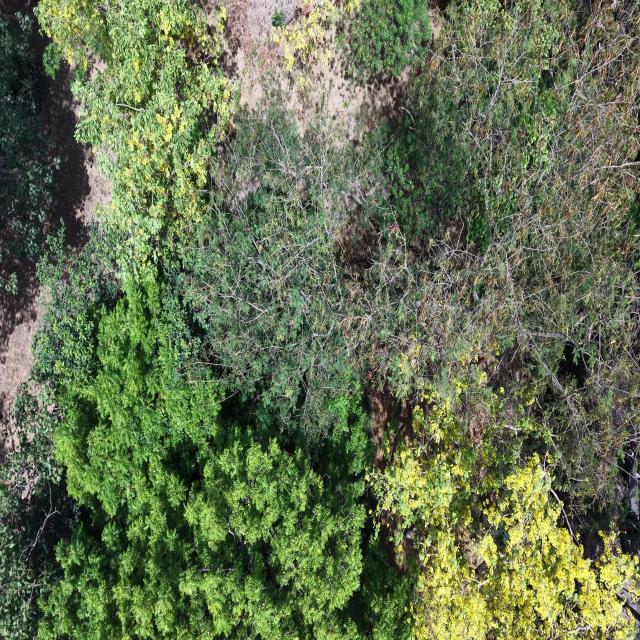DRY_AREA: (223, 0, 412, 145), (223, 0, 412, 142), (223, 0, 410, 143), (235, 52, 410, 143), (40, 67, 110, 250), (2, 454, 75, 587), (0, 264, 43, 397), (0, 279, 43, 399), (222, 0, 300, 59), (224, 0, 298, 55), (371, 386, 413, 471)
VEGETATION_TREE: (0, 0, 639, 639), (369, 3, 638, 637), (35, 184, 408, 637), (347, 3, 638, 504), (37, 257, 408, 638), (402, 3, 639, 503), (40, 282, 367, 638), (371, 390, 637, 639), (187, 104, 360, 439), (36, 0, 233, 268), (0, 230, 118, 639), (0, 386, 78, 639), (0, 12, 59, 293), (0, 13, 59, 292), (32, 227, 120, 389), (339, 0, 432, 80), (270, 0, 337, 73)
